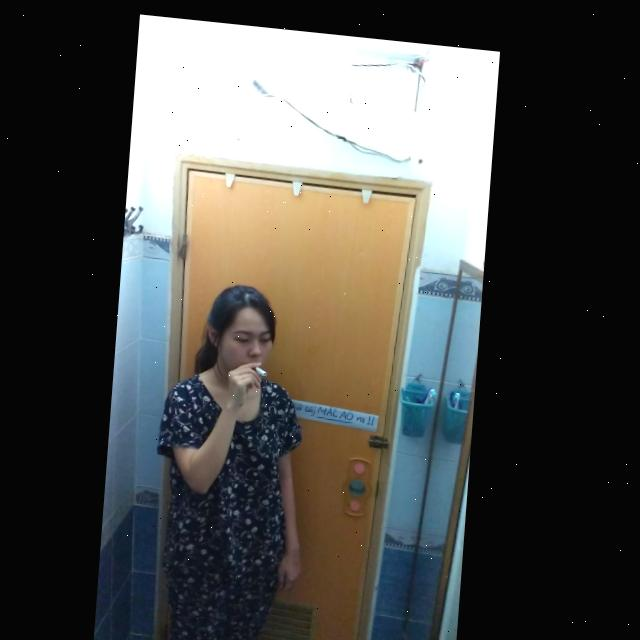cigarette: (260, 360, 272, 371)
